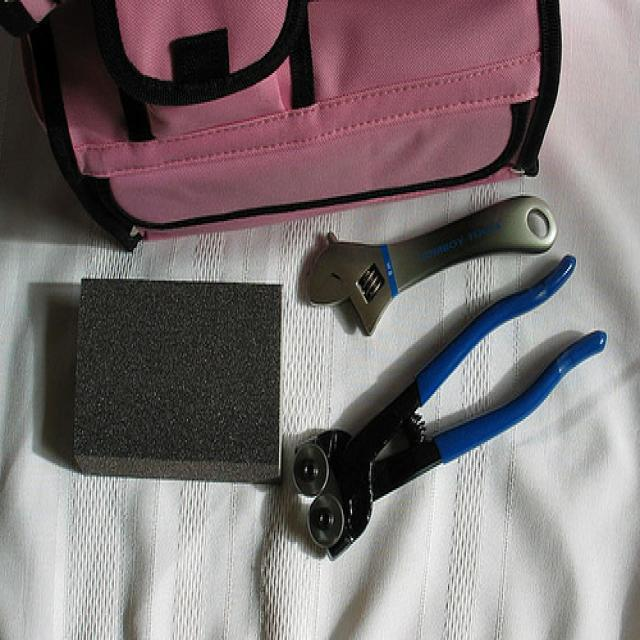wrench: (298, 189, 564, 346)
